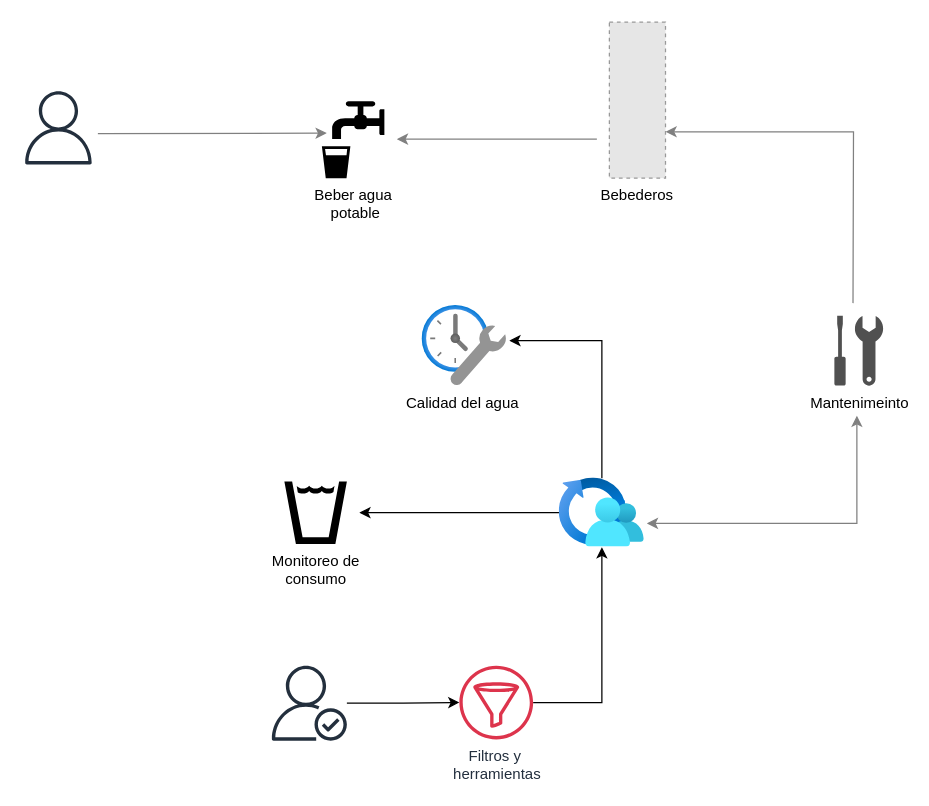
Image size: 929x806. Some labels were removed from this diagram. Grey dashed boxes stand in for pictures. Here are the shapes that lost their labels. From the top down, the centre of each, then its label:
At pixel 57 127: "Usuario".
At pixel 601 512: "Personal de mantenimiento".
At pixel 308 702: "Proveedor".
